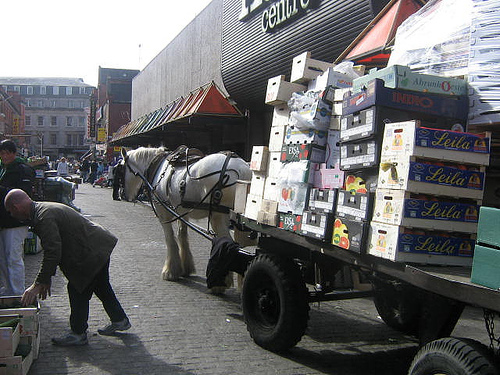horse: (114, 145, 252, 284)
